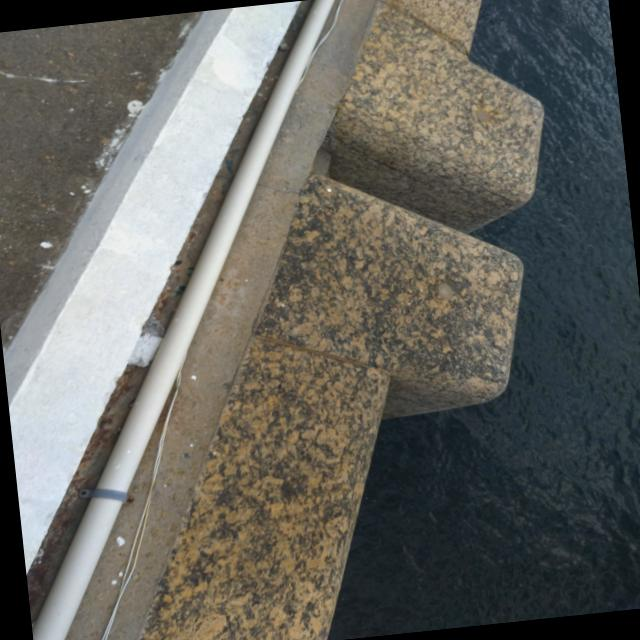gas: (31, 5, 330, 640)
